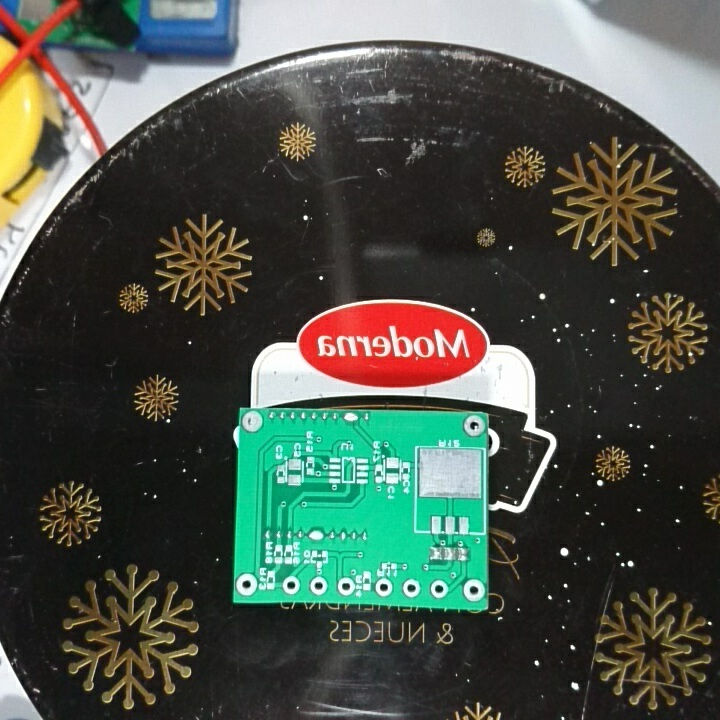F: (233, 572, 259, 598), (240, 409, 267, 434), (461, 577, 486, 604), (461, 414, 486, 438), (427, 577, 450, 602), (401, 576, 422, 602), (308, 575, 330, 598), (280, 576, 302, 598), (373, 576, 393, 600), (336, 577, 355, 598)
P: (306, 526, 327, 545), (341, 410, 360, 426)
